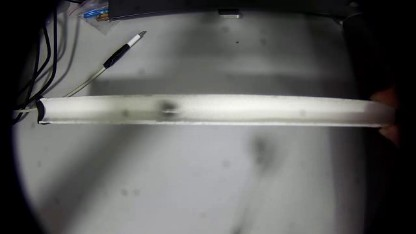gangzhu: (154, 100, 179, 119)
